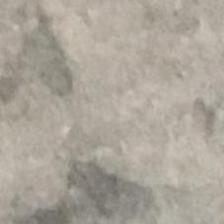Non_Crack: (107, 12, 213, 186)
